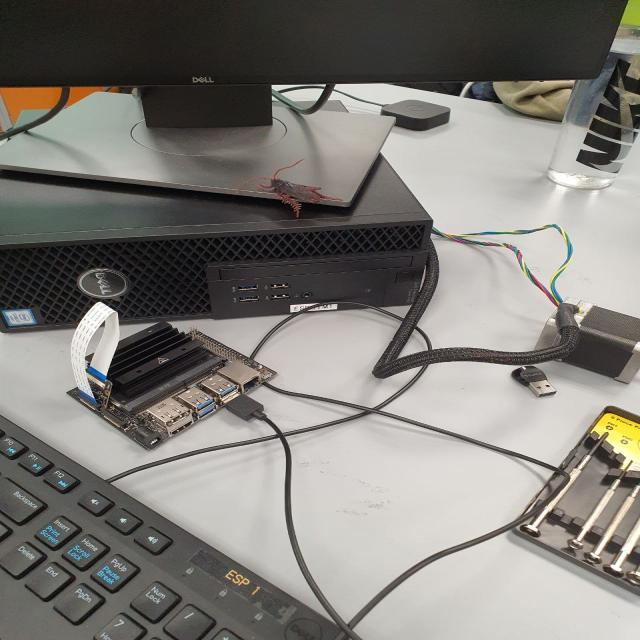Cockroach: (252, 149, 346, 225)
